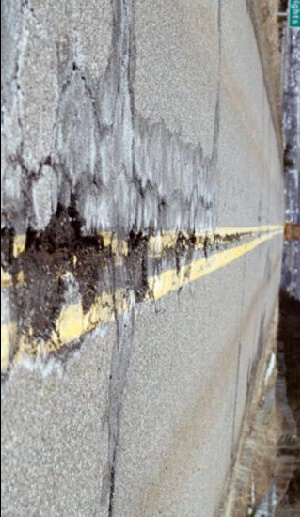pothole: (0, 200, 105, 336), (124, 226, 151, 305)
